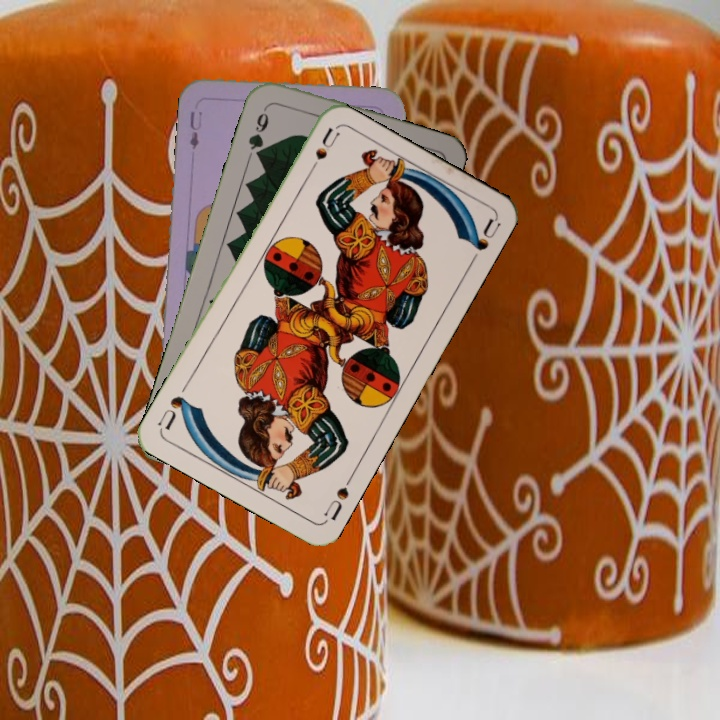EU: (185, 107, 205, 152)
G9: (244, 102, 272, 162)
SU: (302, 124, 342, 180), (320, 470, 356, 524)
